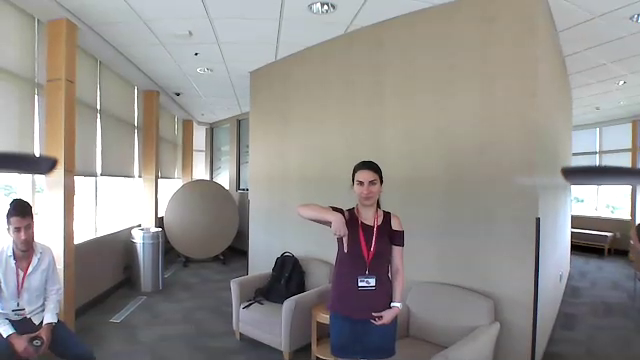down: (326, 211, 353, 260)
